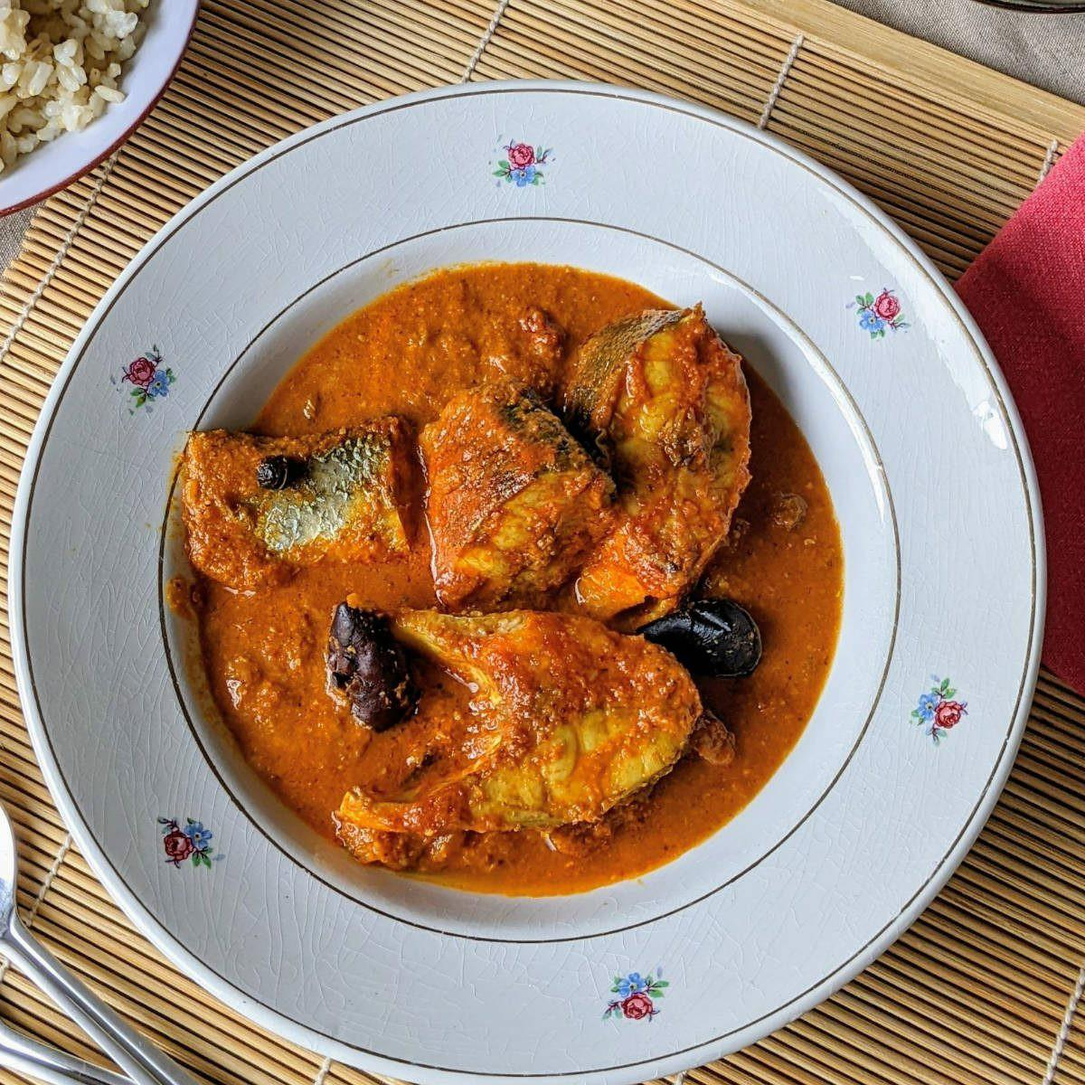FishCurry: (186, 258, 844, 901)
WhiteRice: (0, 3, 156, 165)
